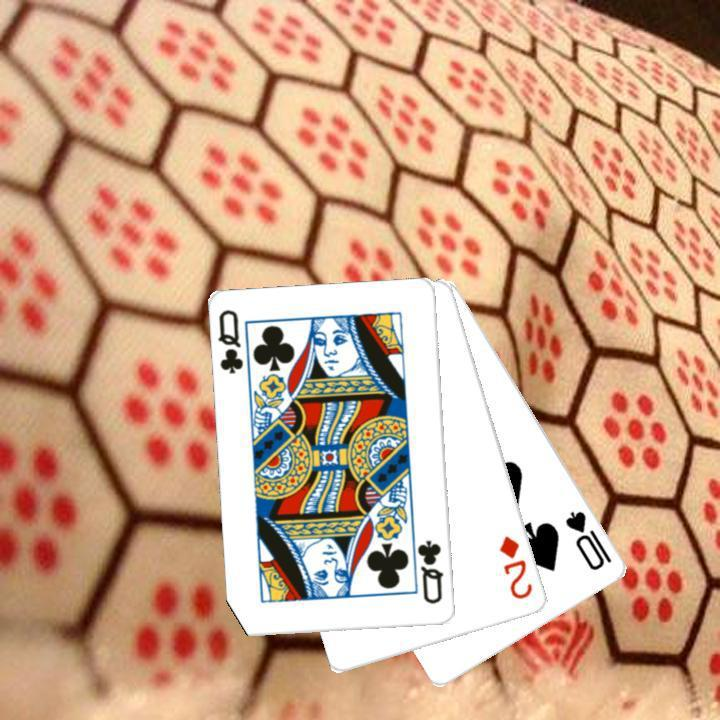10: (561, 506, 614, 573)
2: (495, 531, 535, 602)
Q: (414, 536, 446, 606), (214, 306, 246, 376)
